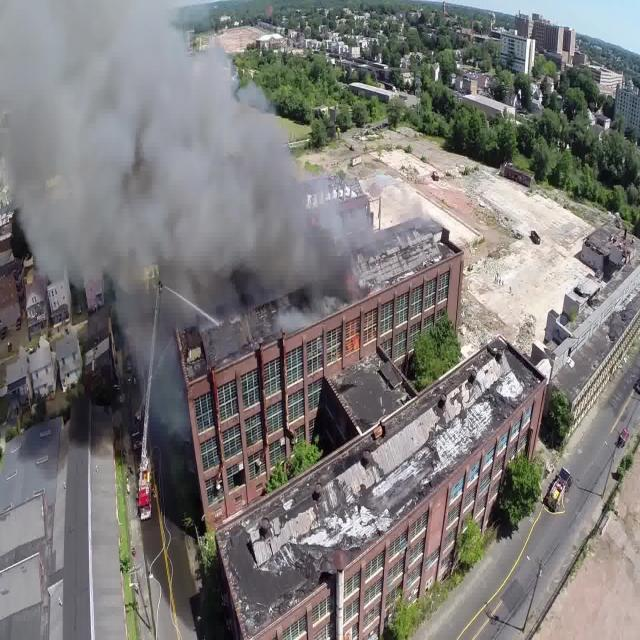smoke: (41, 26, 209, 250), (218, 138, 300, 280)
